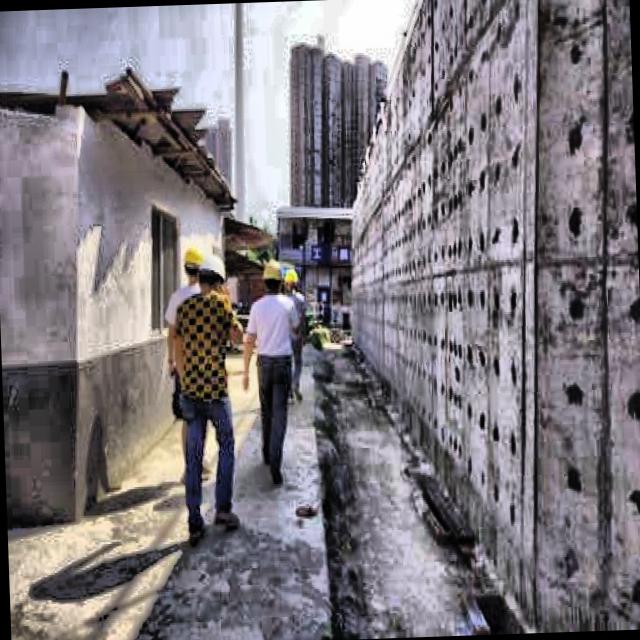helmet: (195, 255, 226, 306), (179, 243, 204, 292), (258, 250, 284, 296), (280, 266, 298, 302)
